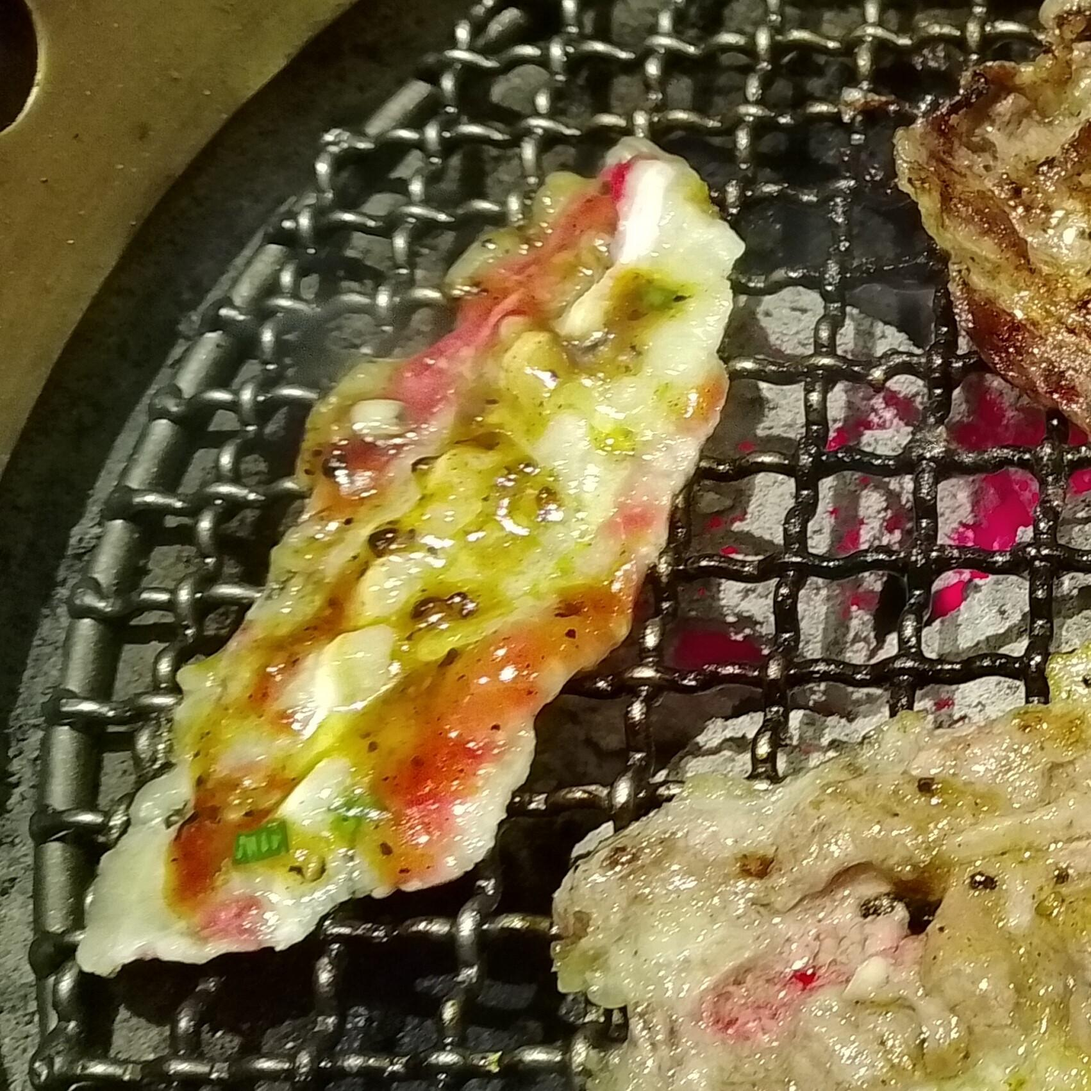Overcooked: (892, 0, 1090, 447)
Undercooked: (88, 141, 746, 974)
Well-Cooked: (550, 687, 1090, 1090)
